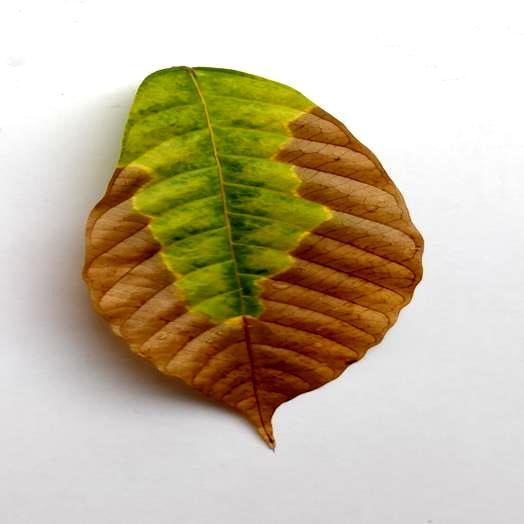Potassium: (84, 67, 421, 447)
